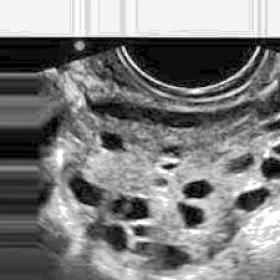PCOS: (68, 174, 106, 207), (232, 183, 272, 213), (86, 221, 126, 251), (176, 198, 206, 235), (160, 243, 192, 271), (181, 178, 216, 201), (96, 129, 126, 153), (259, 152, 280, 186), (225, 152, 255, 174), (128, 193, 148, 226), (159, 158, 183, 174), (110, 192, 126, 213), (130, 221, 150, 237)
